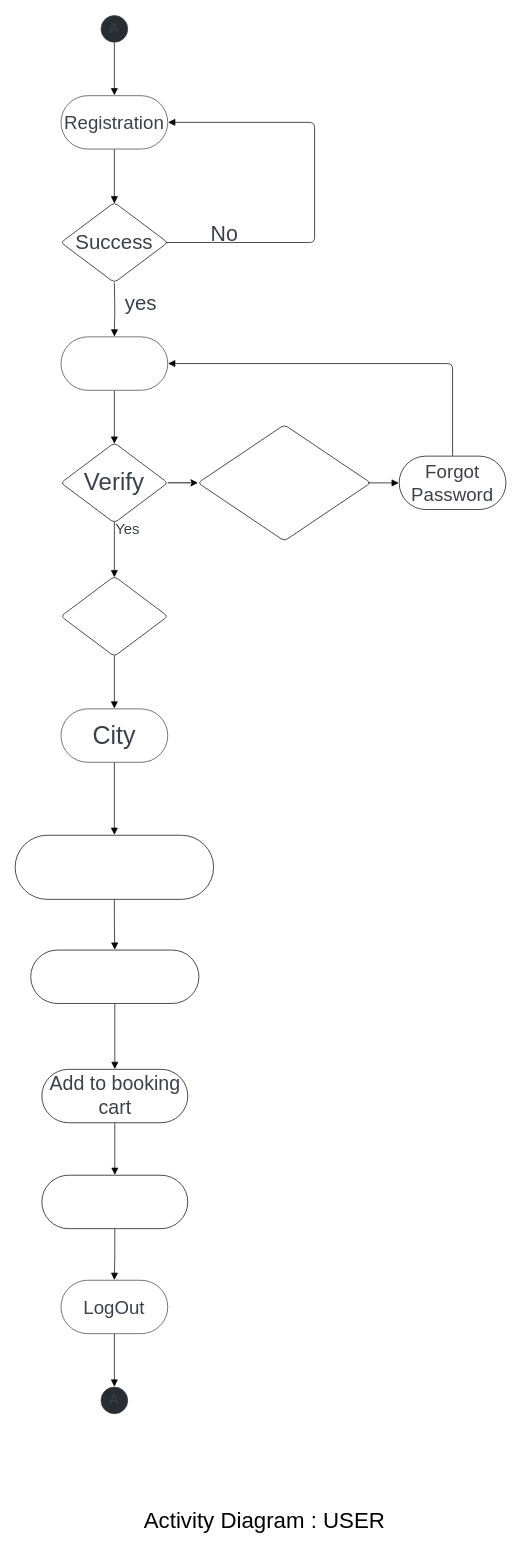
This 522x1549 diagram has some shape labels left out. Each missing label, with the box of its shape:
Book Rooms & Tables: (30, 949, 199, 1003)
Login: (60, 336, 168, 390)
Make Payment: (41, 1174, 188, 1229)
Password Incorrect: (197, 424, 371, 541)
Select Hotel/Restaurant: (14, 834, 214, 899)
State: (60, 575, 168, 656)
